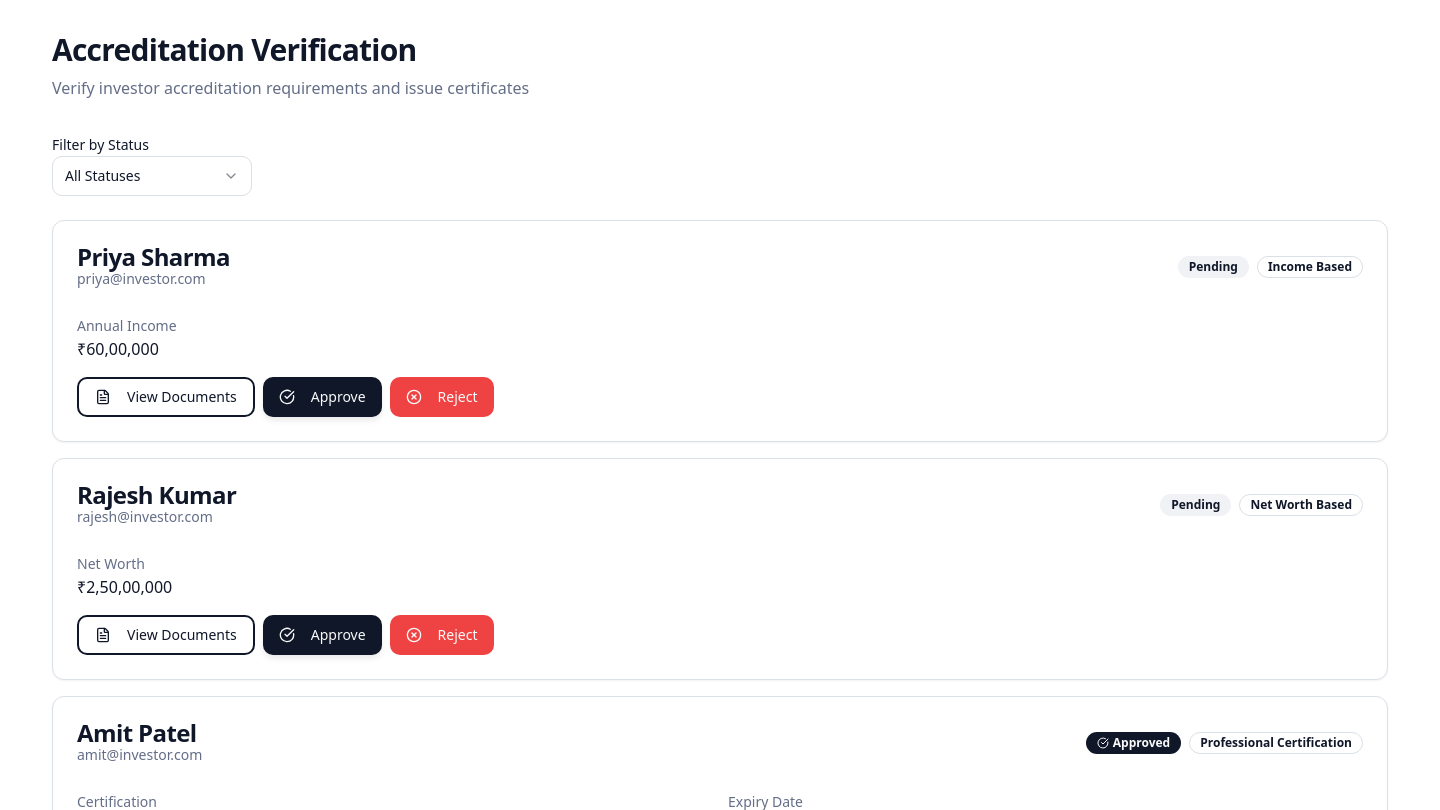
Scenario: US-COMPLIANCE-003: Accreditation Verification › Filter Applications › should filter applications by approved status
Expected: the text "Amit Patel" is shown, [77,721,202,745]
Click the dropdown named "Filter by Status": (152,176) [52,156,252,196]
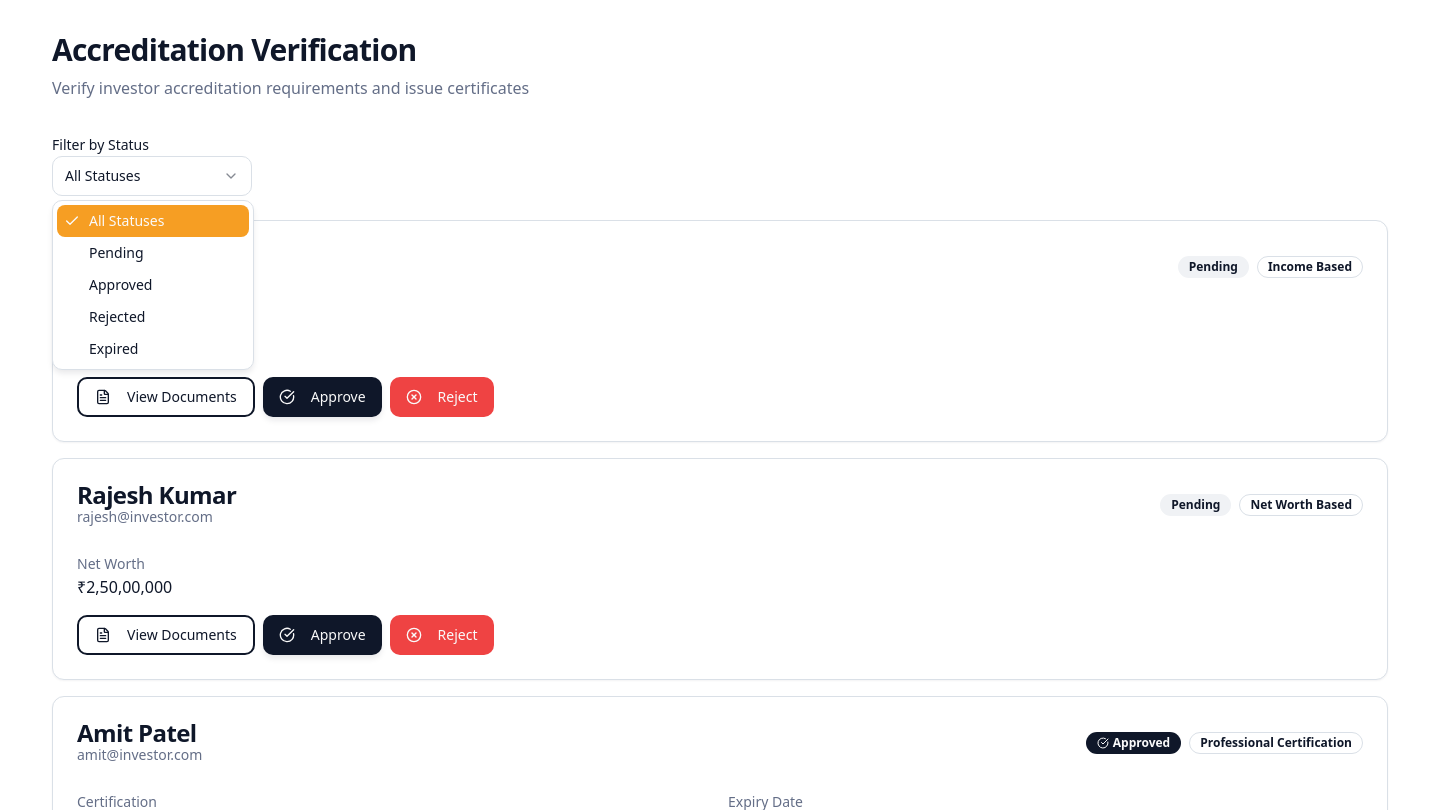
Expected: the option "Approved" is shown
Click the option "Approved": (121,284) [89,275,152,294]
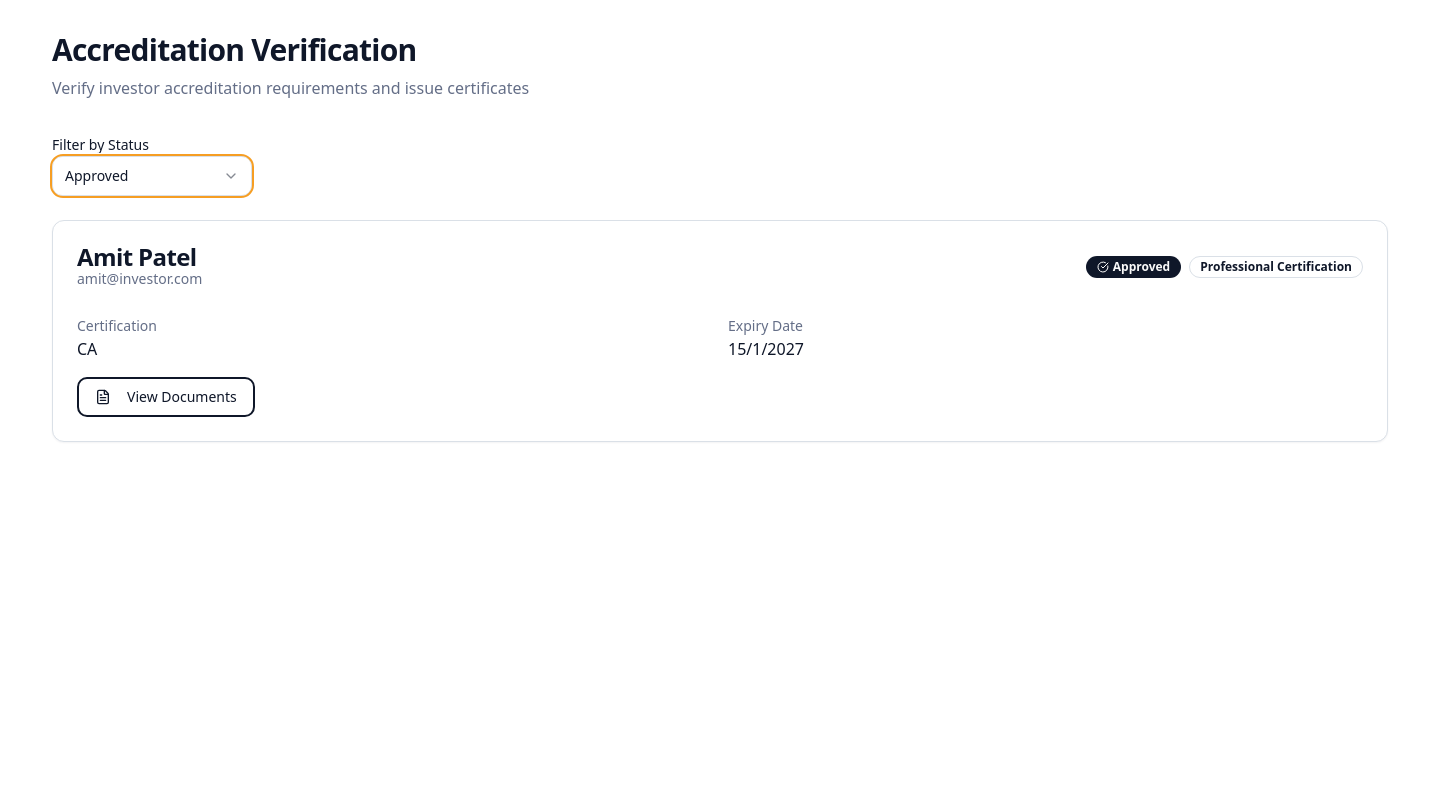
Expected: the text "Amit Patel" is shown, [77,245,202,269]
Expected: the text "Priya Sharma" is gone
